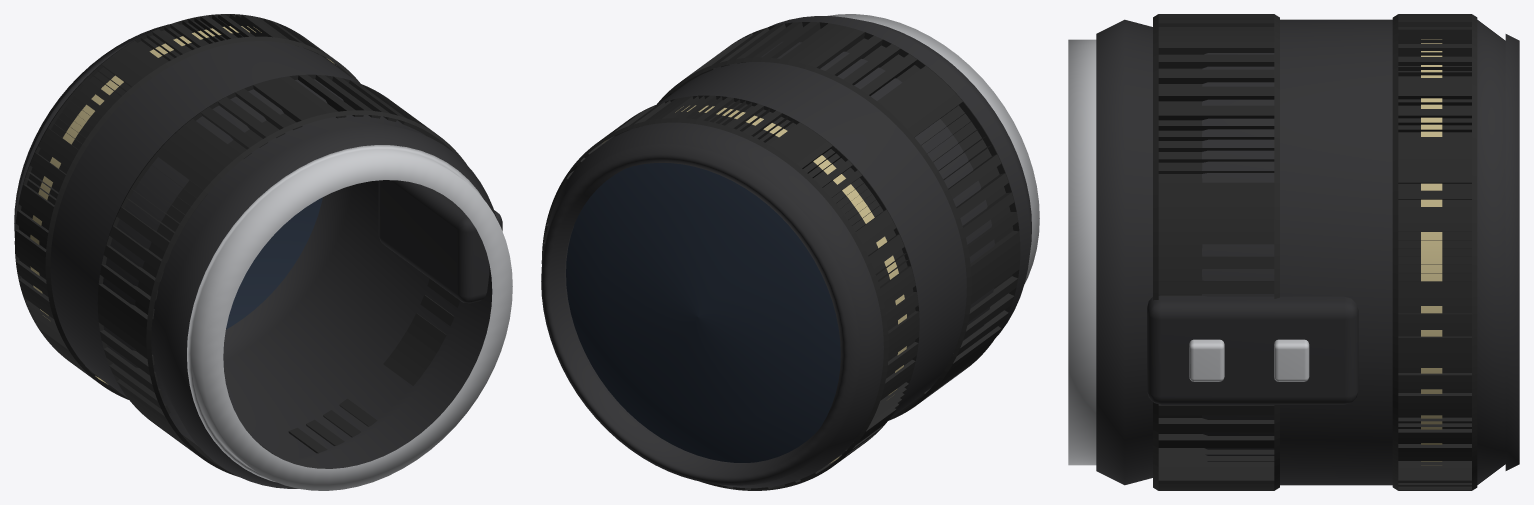
The model's file is lens-l1.glb.
3 views of the same model, side by side, from view 1: azimuth 30°, elevation 25°; view 2: azimuth 150°, elevation 25°; view 3: azimuth 270°, elevation 25° (orthographic). The views are drawn at different scales.
Visible parts, largest first — view 1: Barrel, ZoomRing0, LensMount, FocusRing1, SwitchPanel, FrontGlass, Accent, FrontRim; view 2: FrontGlass, Barrel, ZoomRing0, FrontRim, FocusRing1, LensMount, Accent; view 3: Barrel, ZoomRing0, FocusRing1, SwitchPanel, LensMount, FrontRim, Accent, Switch0, Switch1.
Part boxes in pixels (bbox=[...]): Barrel: bbox=[50, 41, 496, 488]; ZoomRing0: bbox=[97, 74, 467, 476]; LensMount: bbox=[187, 145, 512, 490]; FocusRing1: bbox=[14, 14, 360, 399]; SwitchPanel: bbox=[378, 180, 502, 303]; FrontGlass: bbox=[189, 164, 322, 329]; Accent: bbox=[30, 26, 334, 384]; FrontRim: bbox=[14, 24, 169, 237]; FrontGlass: bbox=[566, 163, 840, 462]; Barrel: bbox=[544, 16, 1031, 488]; ZoomRing0: bbox=[657, 22, 1020, 420]; FrontRim: bbox=[541, 144, 860, 485]; FocusRing1: bbox=[541, 95, 919, 490]; LensMount: bbox=[828, 14, 1039, 283]; Accent: bbox=[602, 105, 906, 463]; Barrel: bbox=[1096, 19, 1505, 485]; ZoomRing0: bbox=[1153, 14, 1279, 490]; FocusRing1: bbox=[1392, 14, 1477, 490]; SwitchPanel: bbox=[1147, 295, 1358, 404]; LensMount: bbox=[1068, 39, 1096, 465]; FrontRim: bbox=[1505, 34, 1519, 470]; Accent: bbox=[1421, 39, 1442, 465]; Switch0: bbox=[1189, 339, 1224, 381]; Switch1: bbox=[1274, 339, 1309, 381].
Size of the model in its own units: 0.0713 by 0.0676 by 0.064.
